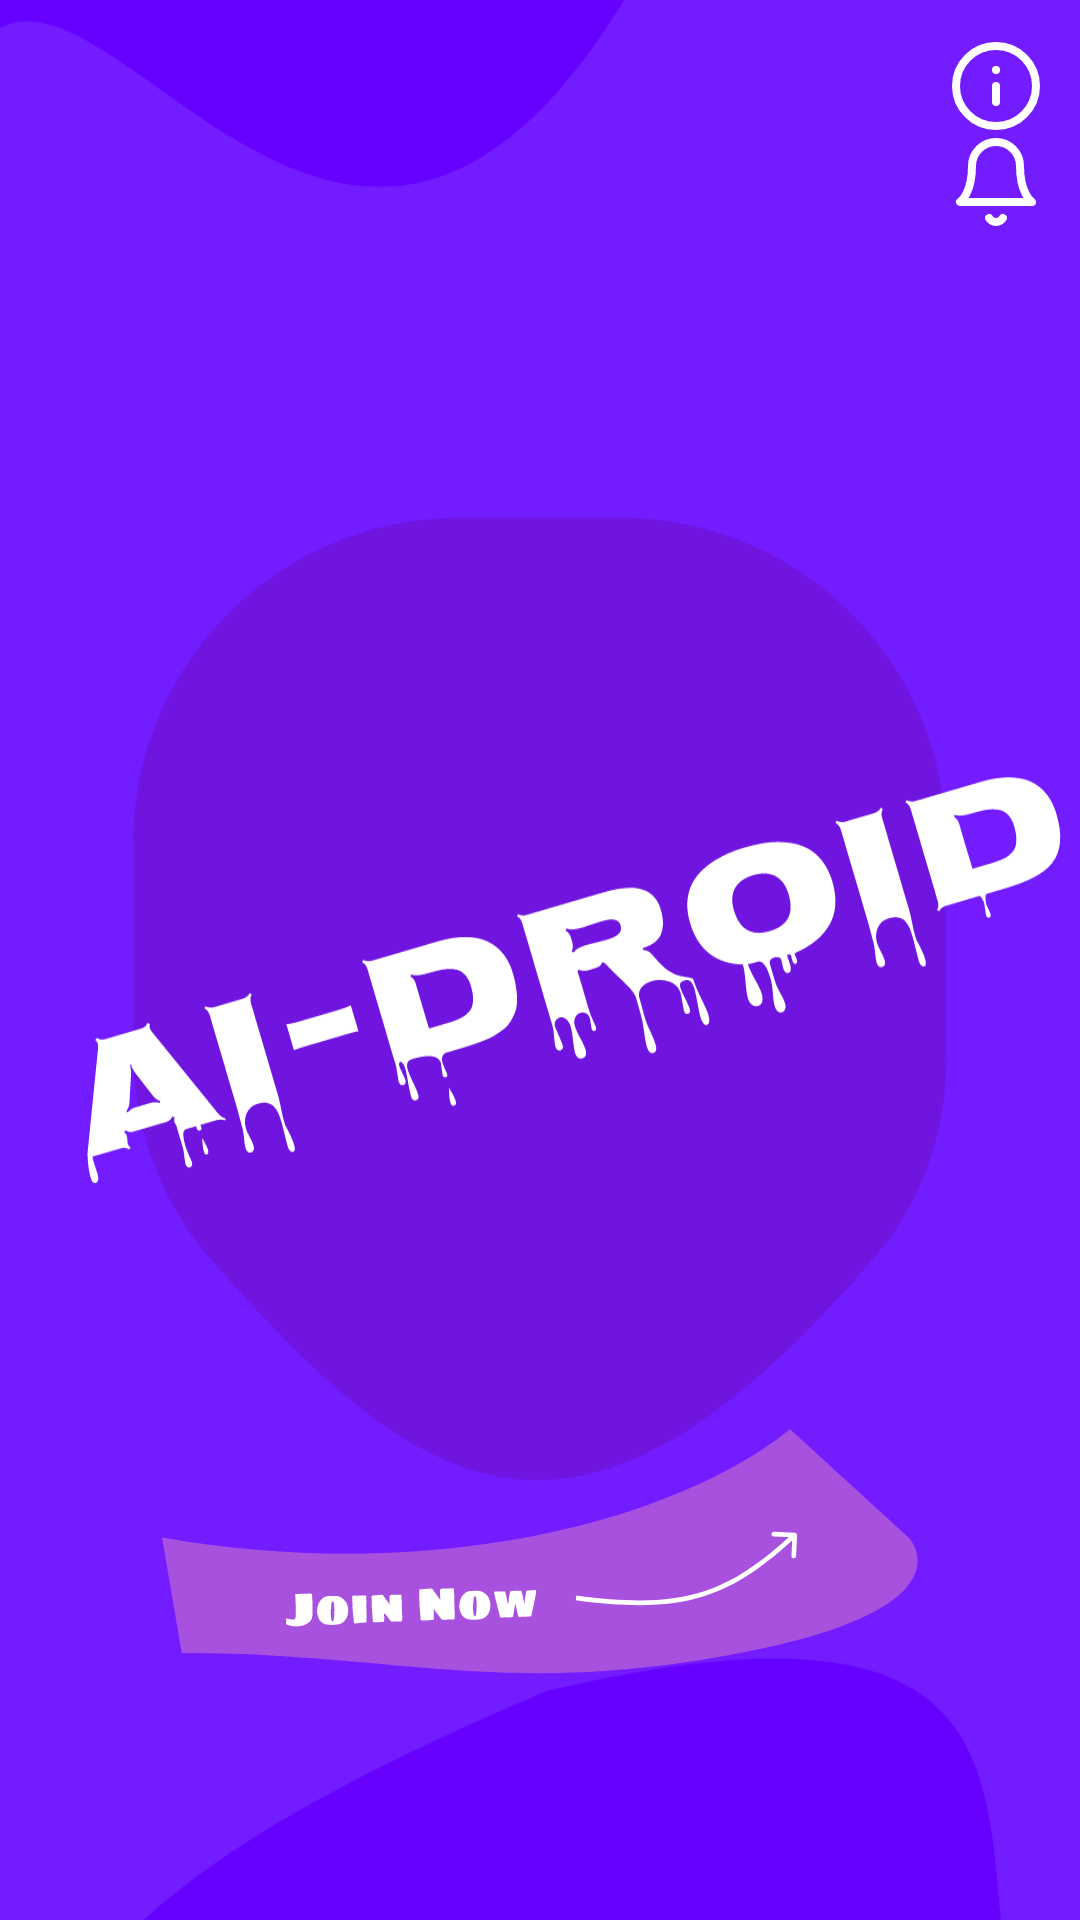

Icon bounding boxes for this 1080px×1920px phone screenshot, format Rect(x1, y1, x2, y2):
bell: Rect(955, 138, 1036, 226)
info: Rect(952, 42, 1040, 130)
